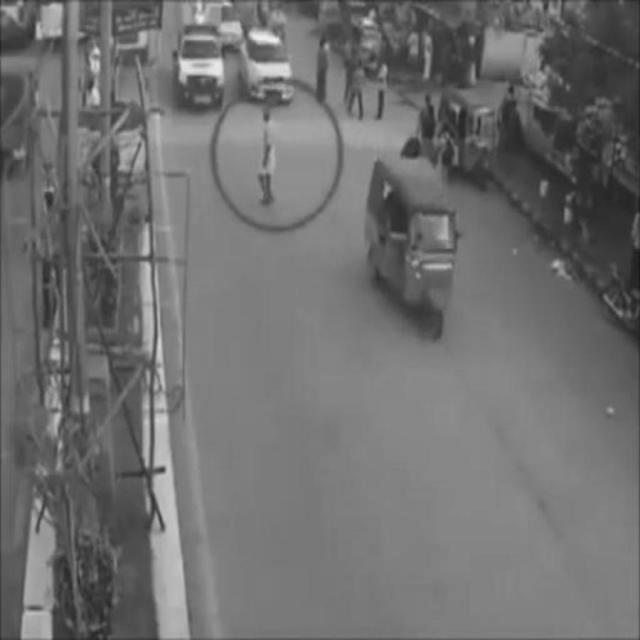person: (417, 92, 443, 165), (257, 104, 275, 206), (346, 60, 366, 122), (315, 36, 331, 106), (375, 57, 392, 121)
vehicle: (365, 154, 457, 340), (442, 80, 502, 191), (242, 32, 299, 110), (171, 30, 227, 108)
